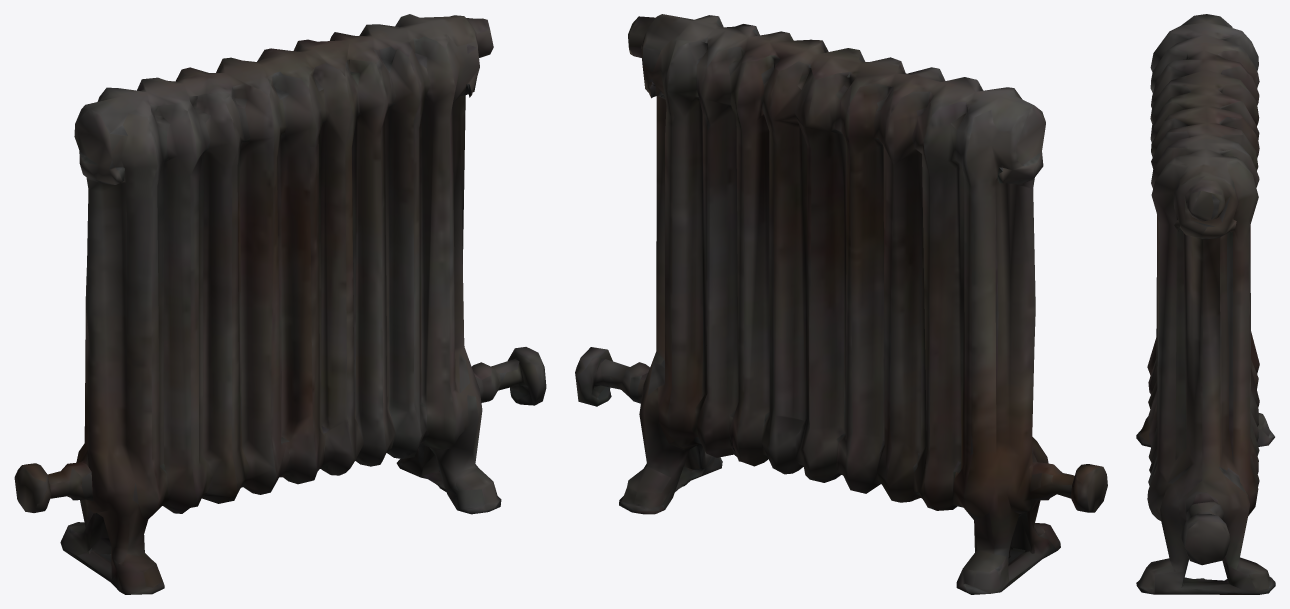
Rendered from chipped-iron-radiator-v001.glb.
3 views of the same model, side by side, from view 1: azimuth 30°, elevation 25°; view 2: azimuth 150°, elevation 25°; view 3: azimuth 270°, elevation 25° (orthographic). The views are drawn at different scales.
Parts seen in each view (by area): view 1: chipped-iron-radiator; view 2: chipped-iron-radiator; view 3: chipped-iron-radiator.
Boxes of the visible parts, left/top/right/bottom form: chipped-iron-radiator: left=14, top=14, right=546, bottom=594; chipped-iron-radiator: left=575, top=14, right=1107, bottom=594; chipped-iron-radiator: left=1136, top=14, right=1275, bottom=594.
Size of the model in its own units: 0.9323 by 0.8191 by 0.2459.
Materials: 1 (1 with a texture image).
